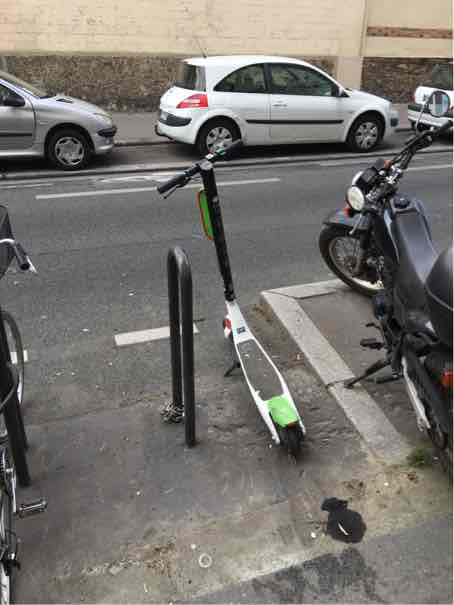scooter: (149, 136, 323, 462)
